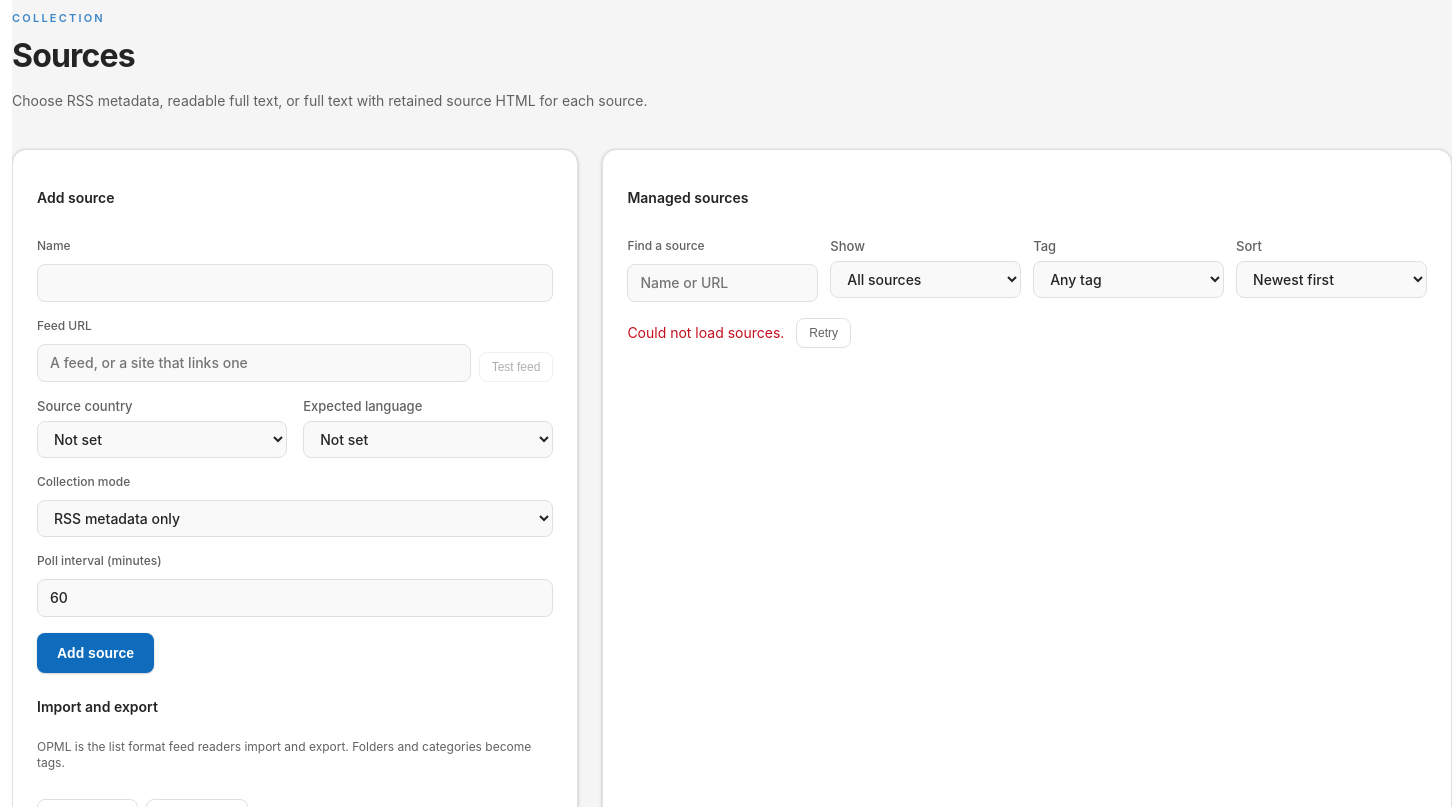
Scenario: tells a failed load apart from an empty list and offers Retry
Expected: the message reads "Could not load sources.", [627,324,784,341]
Click the button "Retry" at point(824, 333), box [796,318,851,348]
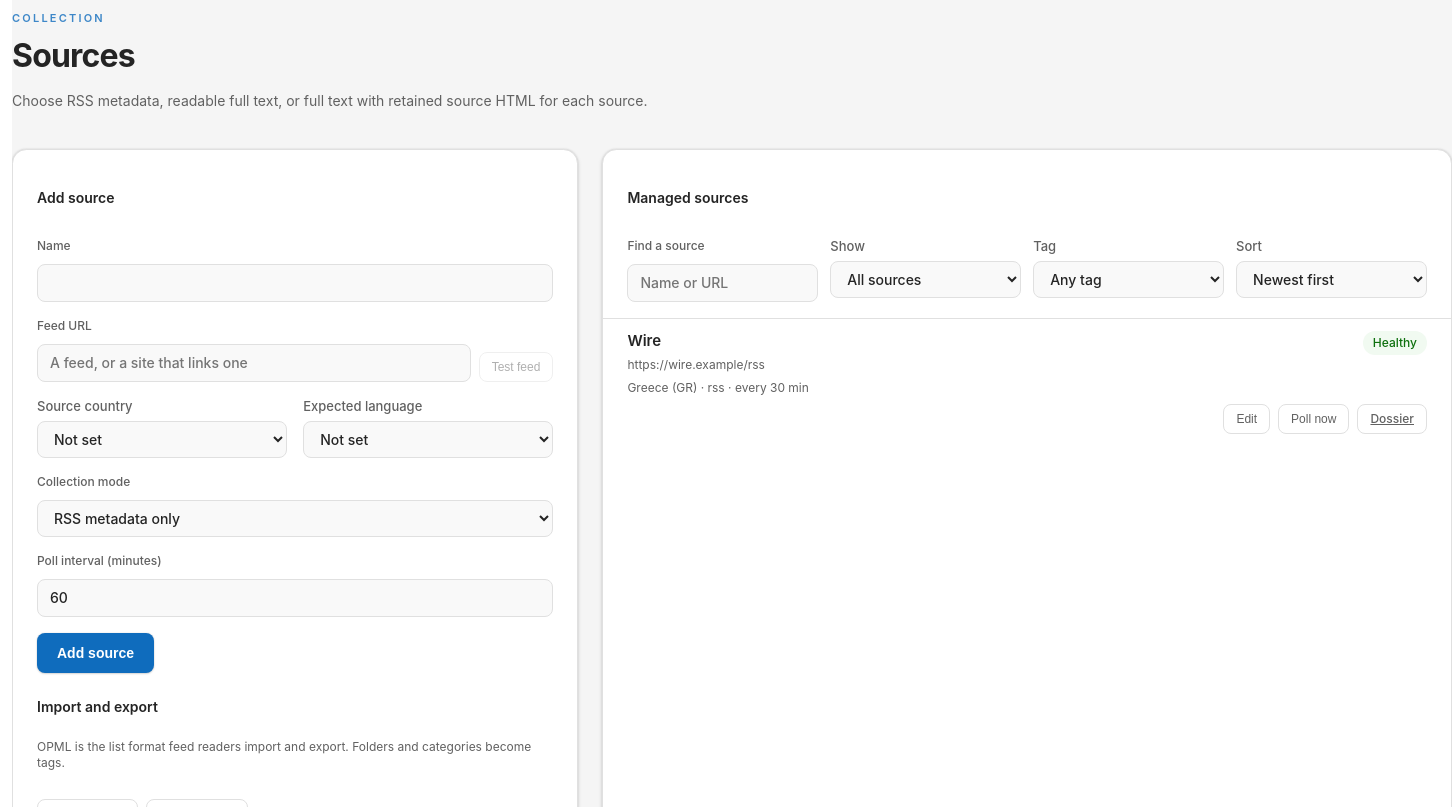
Expected: the link with aria-label "Dossier for Wire" is shown, [1358,404,1427,434]
